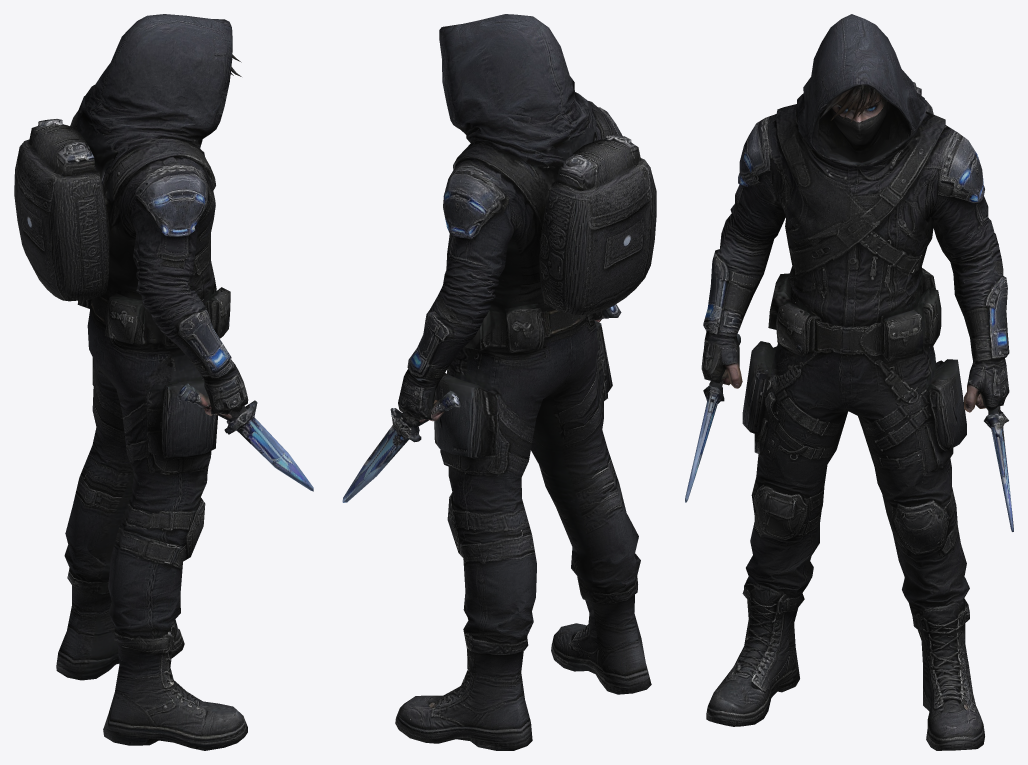
Rendered from shadow.fbx.
3 views of the same model, side by side, from view 1: azimuth 30°, elevation 25°; view 2: azimuth 150°, elevation 25°; view 3: azimuth 270°, elevation 25° (orthographic). The views are drawn at different scales.
Visible parts, largest first — view 1: tripo_node_b17499f9; view 2: tripo_node_b17499f9; view 3: tripo_node_b17499f9.
Part boxes in pixels (left/top/right/bottom): tripo_node_b17499f9: left=14, top=14, right=313, bottom=750; tripo_node_b17499f9: left=342, top=14, right=656, bottom=750; tripo_node_b17499f9: left=685, top=14, right=1013, bottom=750.
Bounding box in the file's own units: 0.3379 × 0.998 × 0.4238.
